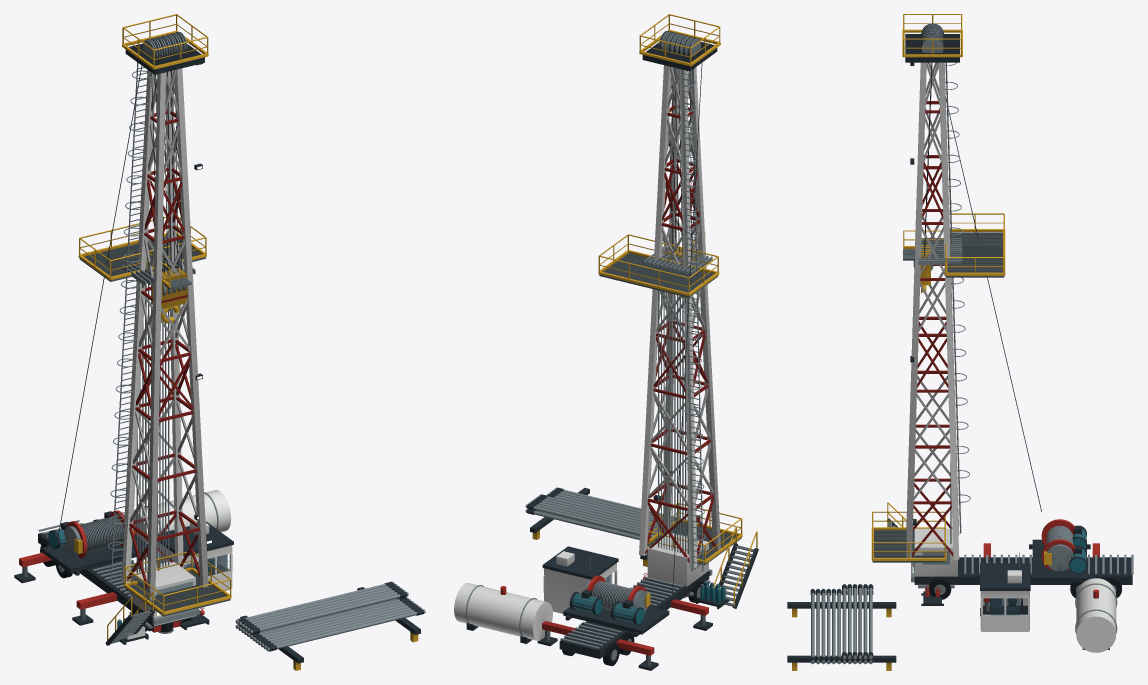
Rendered from workover_truck_lodh.glb.
3 views of the same model, side by side, from view 1: azimuth 30°, elevation 25°; view 2: azimuth 150°, elevation 25°; view 3: azimuth 270°, elevation 25° (orthographic). The views are drawn at different scales.
Parts seen in each view (by area): view 1: derrick_surface_white, pipe_rack_surface_steel, derrick_surface_red, ladder_surface_steel, rod_rack_surface_steel, fuel_tank_surface_white, drill_line_surface_dark, handrails_surface_yellow, drawworks_surface_dark, crown_block_surface_yellow, racking_board_surface_yellow, carrier_surface_white (+14 smaller); view 2: derrick_surface_white, rod_rack_surface_steel, derrick_surface_red, fuel_tank_surface_white, ladder_surface_steel, pipe_rack_surface_steel, carrier_surface_dark, carrier_surface_white, racking_board_surface_deck, racking_board_surface_steel, racking_board_surface_yellow, doghouse_surface_white (+18 smaller); view 3: derrick_surface_white, pipe_rack_surface_steel, derrick_surface_red, fuel_tank_surface_white, racking_board_surface_steel, carrier_surface_dark, doghouse_surface_dark, racking_board_surface_deck, doghouse_surface_white, pipe_rack_surface_dark, carrier_surface_white, ladder_surface_steel (+14 smaller).
Part boxes in pixels (x1,y1,x2,y2): derrick_surface_white: (122,68,208,600); pipe_rack_surface_steel: (235,582,425,651); derrick_surface_red: (126,110,199,589); ladder_surface_steel: (107,62,149,583); rod_rack_surface_steel: (136,280,169,573); fuel_tank_surface_white: (133,490,231,543); drill_line_surface_dark: (57,65,181,542); handrails_surface_yellow: (124,552,231,615); drawworks_surface_dark: (41,534,147,575); crown_block_surface_yellow: (122,14,208,69); racking_board_surface_yellow: (78,216,206,280); carrier_surface_white: (131,560,195,626); derrick_surface_white: (639,65,720,568); rod_rack_surface_steel: (658,290,688,554); derrick_surface_red: (645,105,716,562); fuel_tank_surface_white: (454,583,552,640); ladder_surface_steel: (677,69,705,571); pipe_rack_surface_steel: (525,487,704,539); carrier_surface_dark: (559,571,709,658); carrier_surface_white: (647,532,708,586); racking_board_surface_deck: (599,253,718,297); racking_board_surface_steel: (604,246,713,292); racking_board_surface_yellow: (598,234,719,296); doghouse_surface_white: (543,551,617,613); derrick_surface_white: (906,62,959,559); pipe_rack_surface_steel: (811,584,872,664); derrick_surface_red: (912,101,953,556); fuel_tank_surface_white: (1076,578,1116,652); racking_board_surface_steel: (918,232,1002,272); carrier_surface_dark: (913,557,1132,584); doghouse_surface_dark: (980,563,1030,614); racking_board_surface_deck: (946,233,1004,277); doghouse_surface_white: (980,570,1029,631); pipe_rack_surface_dark: (787,584,896,662); carrier_surface_white: (914,528,957,576); ladder_surface_steel: (944,62,970,533).
Size of the model in its own units: 15.3 by 34.25 by 19.06.
